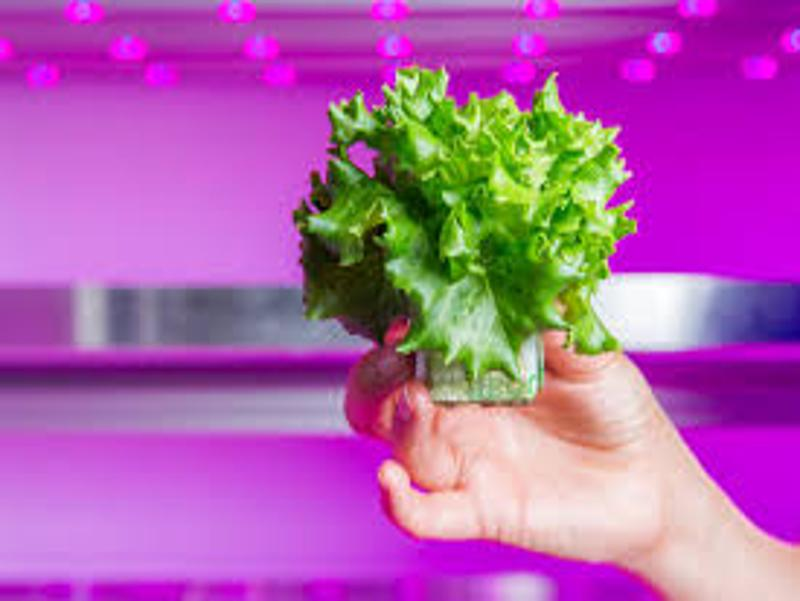green lettuce: (303, 66, 619, 360)
